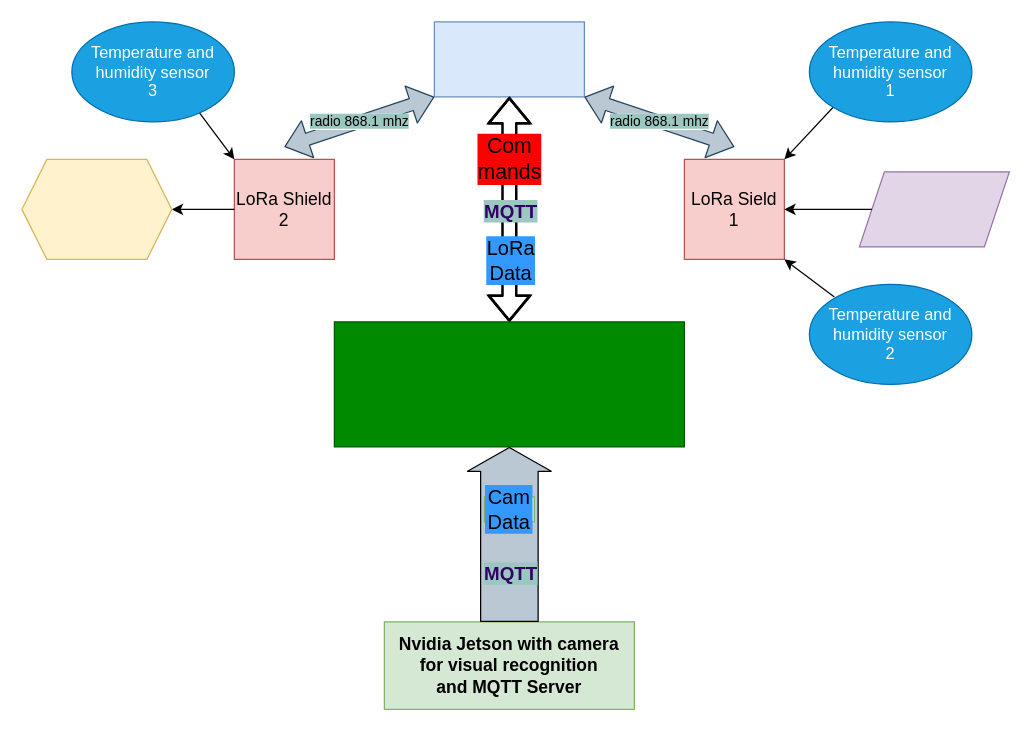
This 1031x731 diagram has some shape labels left out. Each missing label, with the centre of its shape:
Dragino modem: pixel 508 59
Infrared distance sensor: pixel 933 209
Raspberry Pi Server: pixel 508 384
Regulator/ Relay: pixel 96 208
